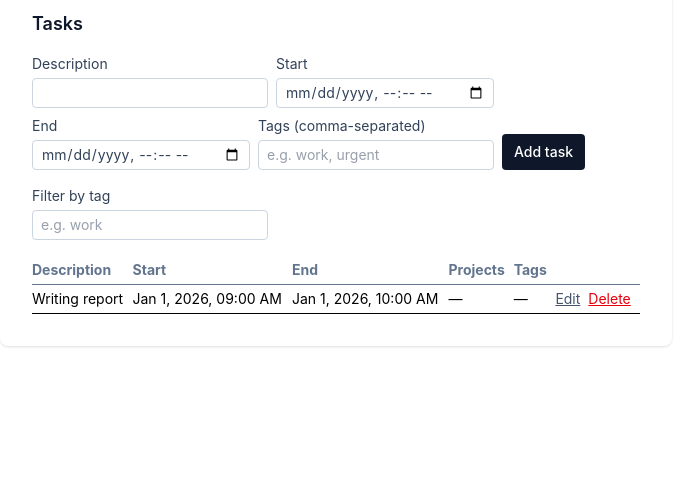
Test case: TaskList › shows a generic error when editing fails for a non-API reason
Expected: the text "Writing report" is shown, [32,284,132,314]
Step 1. Click the button "Edit" → (568, 299), box [555,289,580,309]
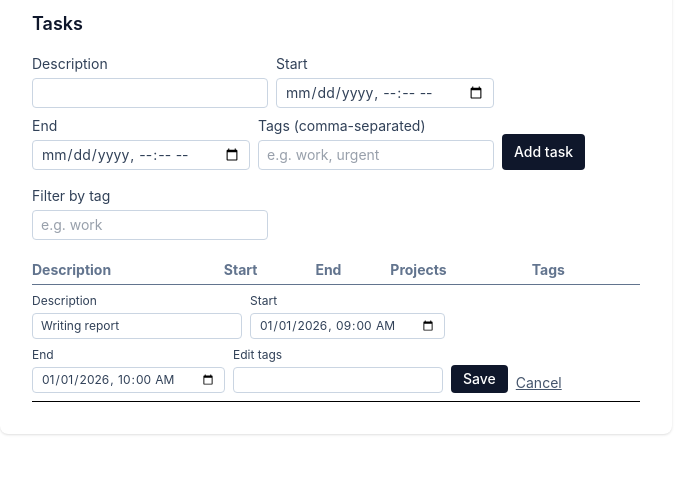
Step 2. Click the button "Save" → (479, 379), box [451,365,508,393]
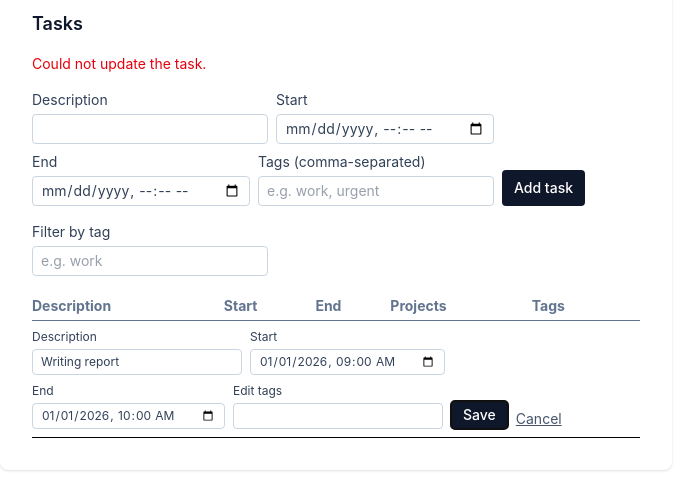
Now the text "Could not update the task." is shown, box [32,55,206,72]
